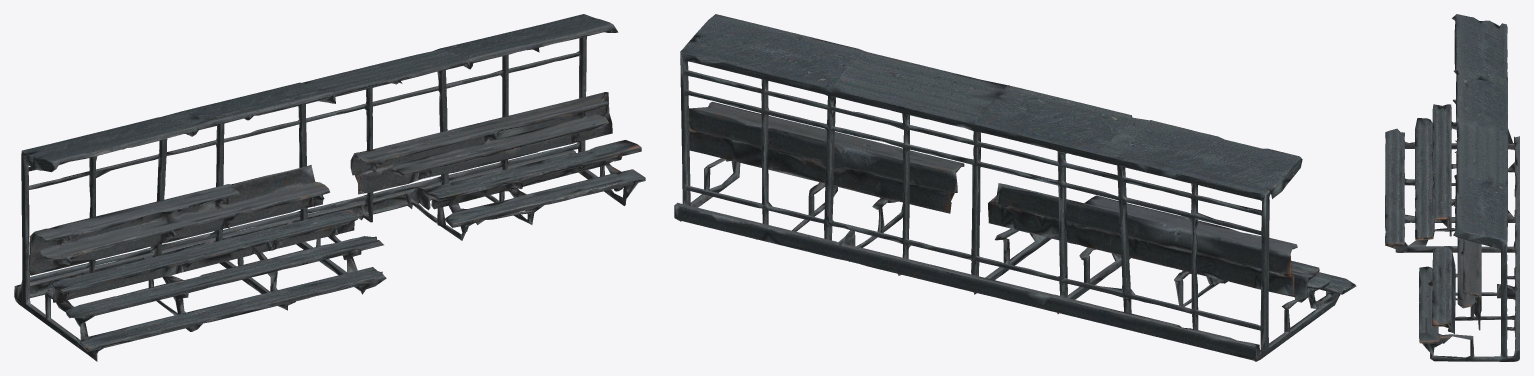
File: aura_hoops_3d_blacktopBleacherR2.716d8377.glb
The picture shows the model from 3 angles, left to right: view 1: azimuth 30°, elevation 25°; view 2: azimuth 150°, elevation 25°; view 3: azimuth 270°, elevation 25°; orthographic projection. The views are drawn at different scales.
Size of the model in its own units: 1.9 by 0.541 by 0.4836.
1 material, 1 textured.
